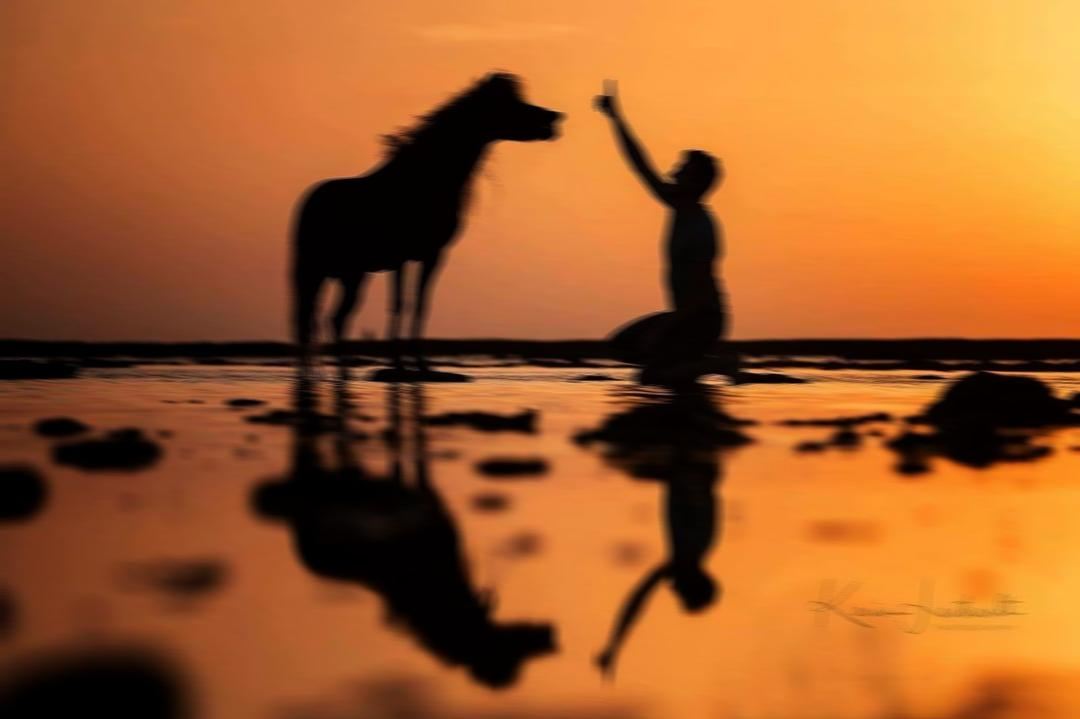horse: (284, 68, 564, 384)
